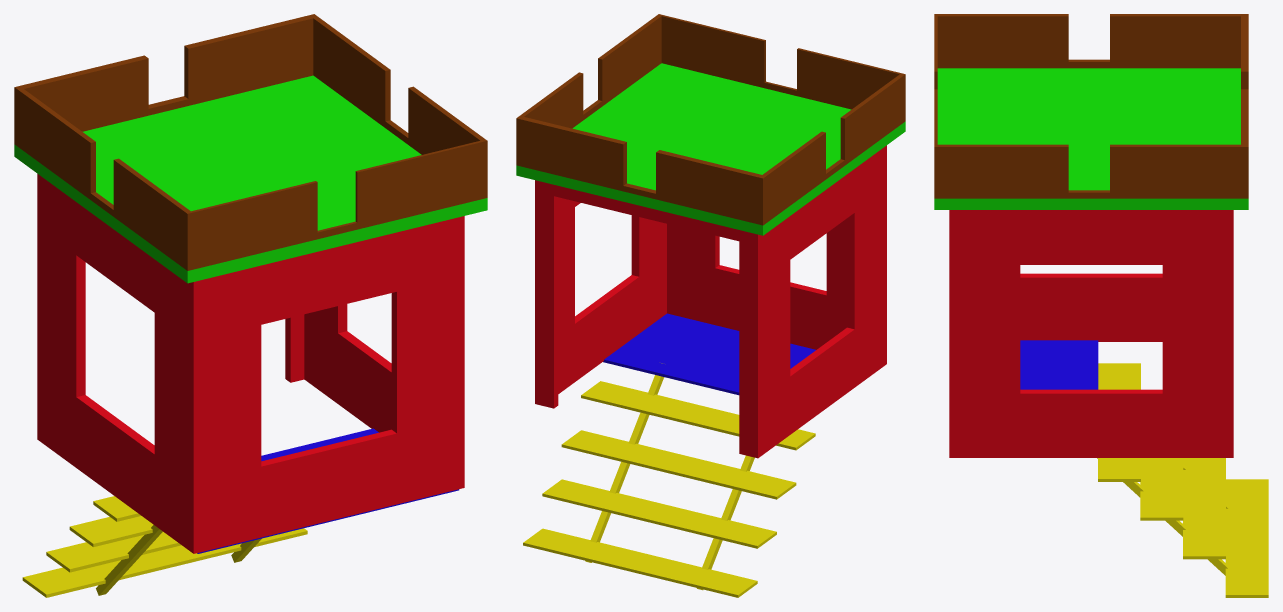
Rendered from BaseCubeWRoofStairsDone.fbx.
3 views of the same model, side by side, from view 1: azimuth 30°, elevation 25°; view 2: azimuth 150°, elevation 25°; view 3: azimuth 270°, elevation 25° (orthographic). The views are drawn at different scales.
Visible parts, largest first — view 1: UTM_4WayWindow, Roof_02, Stairs; view 2: UTM_4WayWindow, Stairs, Roof_02; view 3: UTM_4WayWindow, Roof_02, Stairs.
Part boxes in pixels (x1,y1,x2,y2): UTM_4WayWindow: (14,14,487,597); Roof_02: (24,18,487,283); Stairs: (22,496,307,594); UTM_4WayWindow: (516,14,905,597); Stairs: (523,363,815,597); Roof_02: (524,17,905,235); UTM_4WayWindow: (934,14,1268,597); Roof_02: (934,16,1248,209); Stairs: (1098,363,1268,597).
Size of the model in its own units: 443 by 739 by 471.
